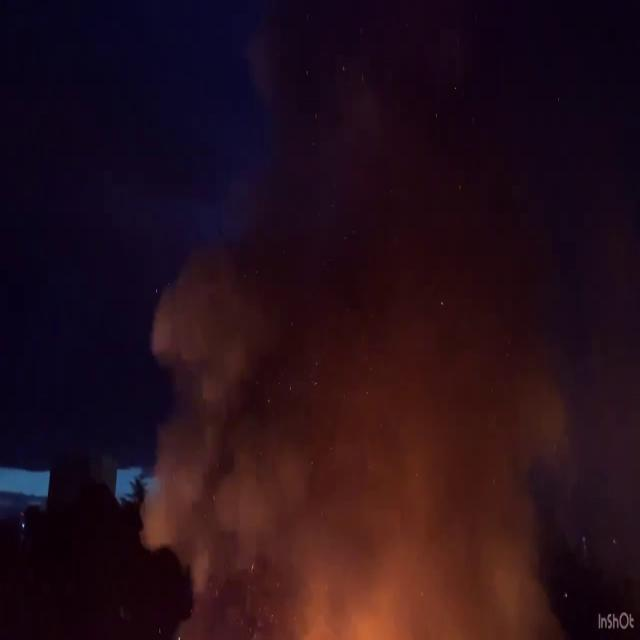Smoke: (127, 11, 578, 633)
